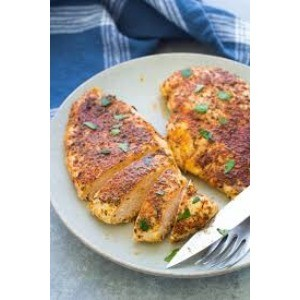chicken breast_brain food: (70, 101, 157, 226), (182, 77, 237, 163)
